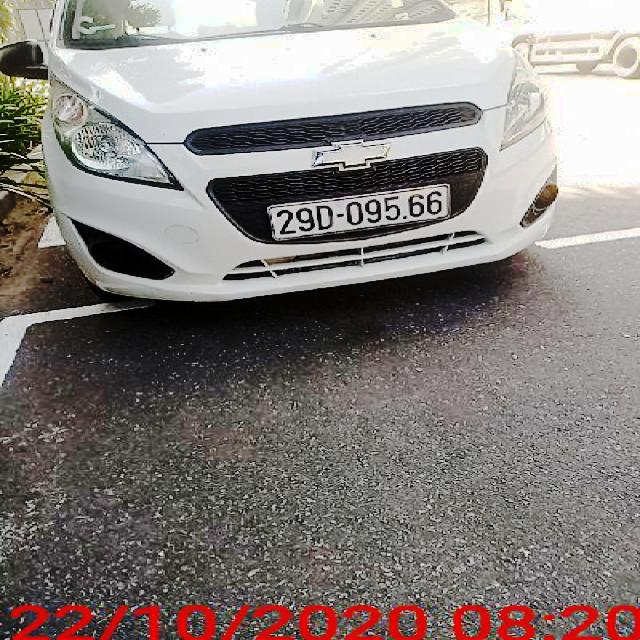license_plate: (270, 184, 450, 240)
